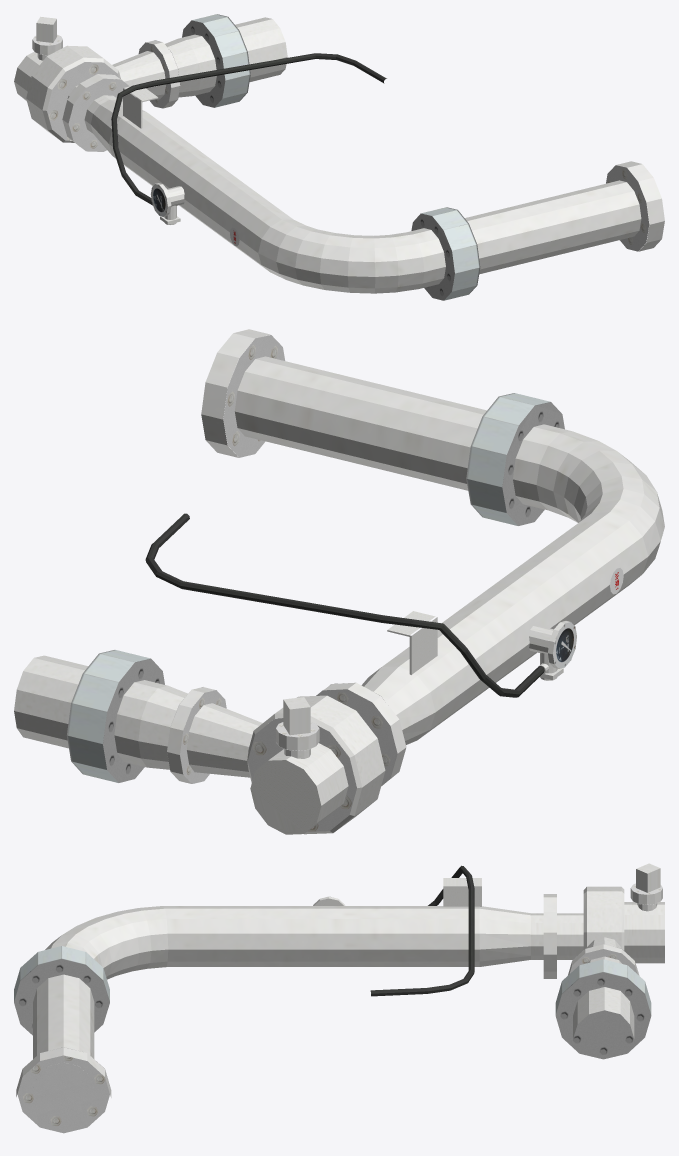
Rendered from peijian113-geode.glb.
3 views of the same model, one above another, from view 1: azimuth 30°, elevation 25°; view 2: azimuth 150°, elevation 25°; view 3: azimuth 270°, elevation 25° (orthographic). The views are drawn at different scales.
Visible parts, largest first — view 1: Node; view 2: Node; view 3: Node.
Boxes of the visible parts, x1,y1,x2,y2 form: Node: (14,14,664,300); Node: (14,329,664,834); Node: (14,863,664,1133).
Size of the model in its own units: 1.07 by 0.2937 by 1.58.
4 materials, 4 textured.
